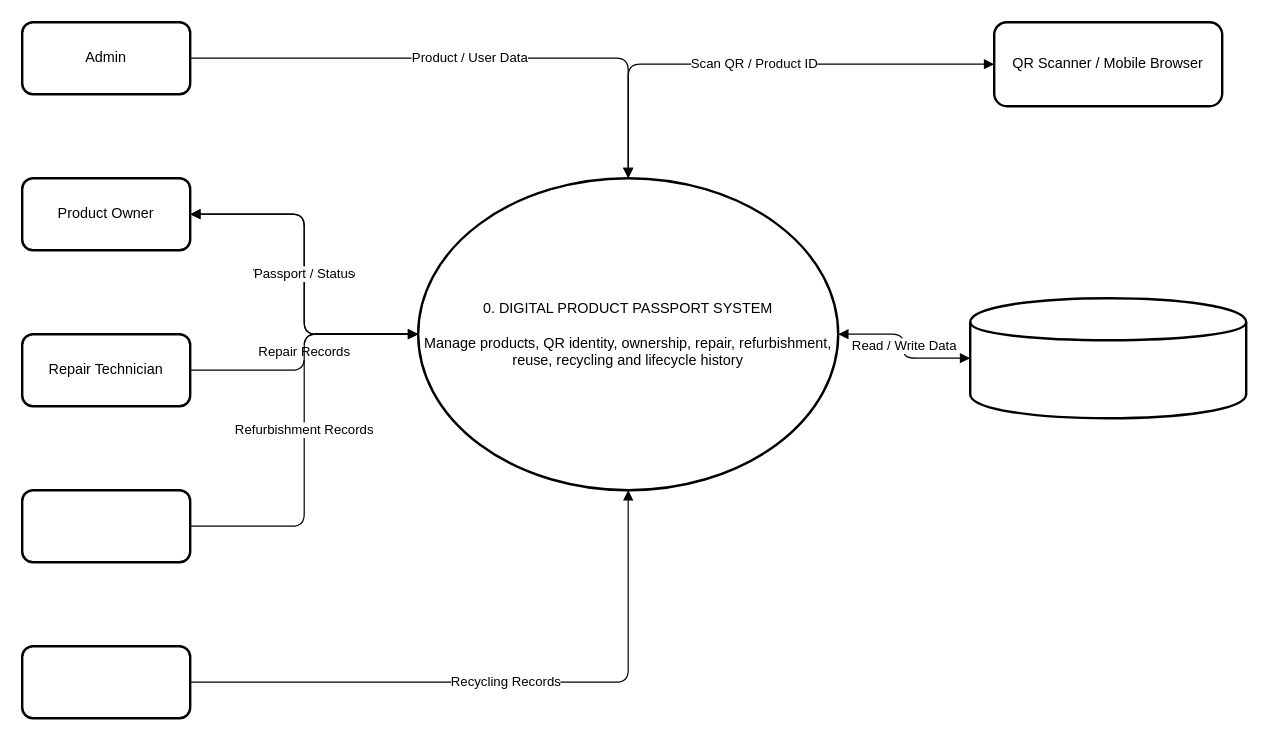
This 1267x739 diagram has some shape labels left out. Here are the shapes that lost their labels. From the top down, the centre of each, then its label:
At [1107,357]: "Product & Lifecycle Database".
At [105,525]: "Refurbisher".
At [105,681]: "Recycler".
